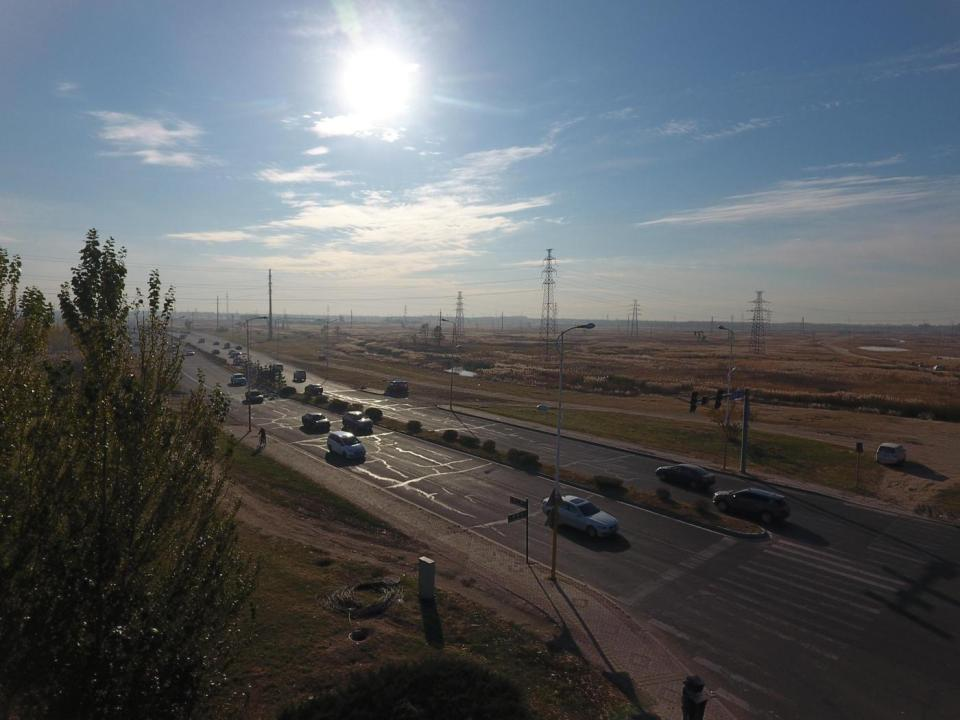car: (541, 494, 618, 537), (713, 487, 791, 524), (655, 463, 716, 489), (876, 442, 906, 466), (343, 410, 373, 431), (300, 412, 330, 428), (245, 390, 263, 402), (304, 384, 324, 394), (272, 363, 283, 371), (932, 364, 940, 371), (186, 350, 194, 356), (230, 352, 238, 358), (212, 349, 219, 355), (228, 349, 236, 354), (134, 340, 140, 346), (235, 345, 242, 350), (198, 338, 204, 343), (173, 342, 179, 346), (214, 341, 220, 345), (183, 334, 186, 337)
truck: (327, 431, 366, 458), (230, 373, 246, 385), (233, 356, 243, 364)
van: (293, 370, 306, 380), (170, 346, 176, 352), (224, 342, 230, 348), (180, 334, 184, 340)
